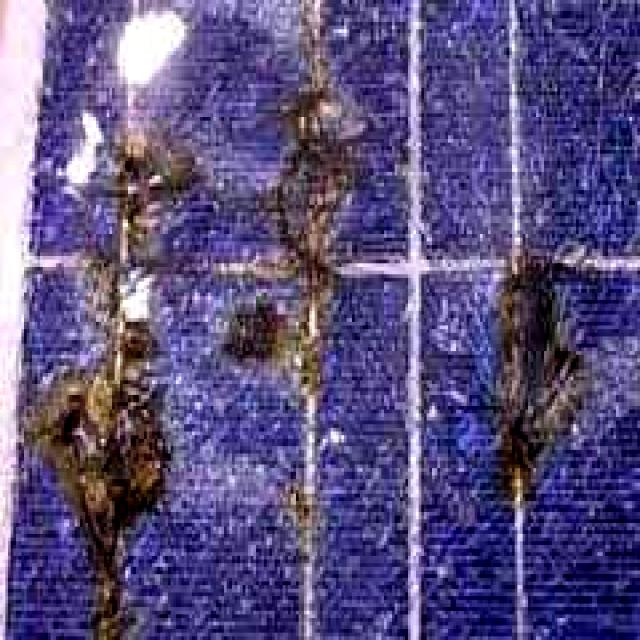shadow: (21, 111, 222, 640), (234, 6, 368, 524), (474, 210, 614, 548)
